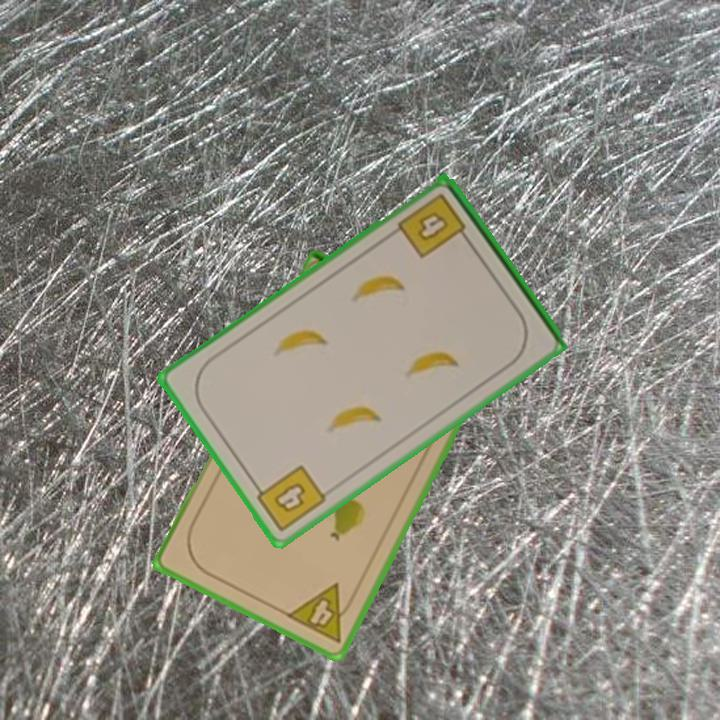4b: (249, 461, 329, 535), (394, 189, 473, 262)
4p: (282, 580, 360, 646)
